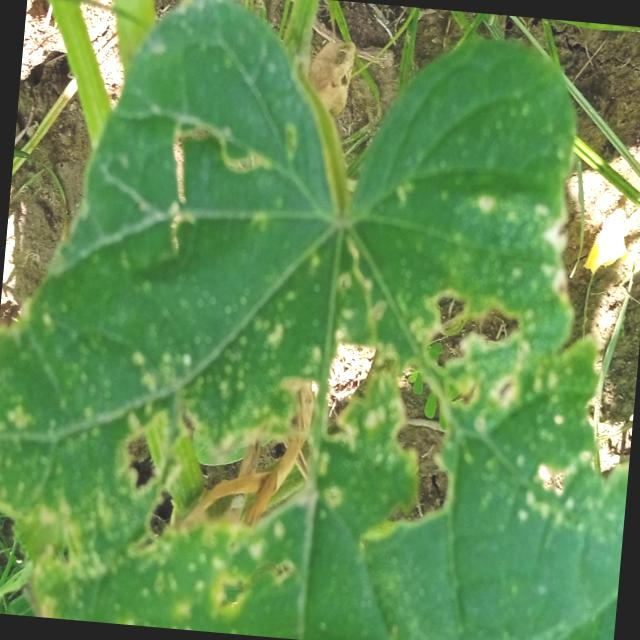cucumber_anthracnose: (0, 23, 625, 640)
